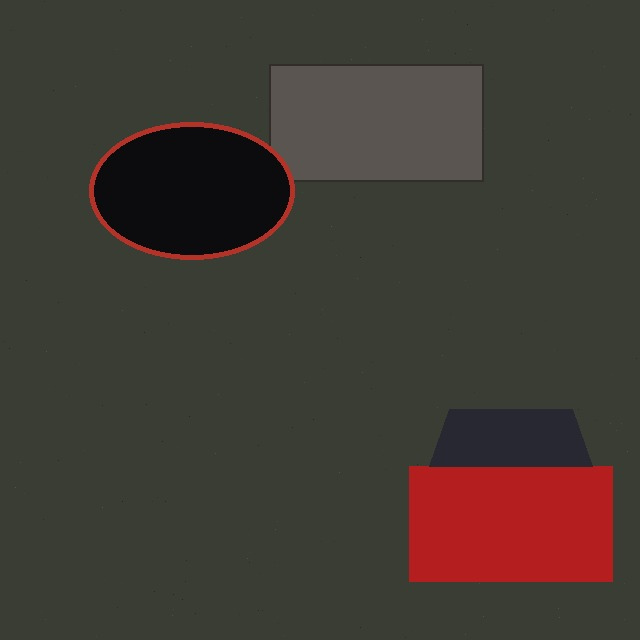concrete_damage: (269, 64, 483, 181)
open_manhole: (89, 122, 294, 259)
vehicle: (409, 409, 612, 581)
